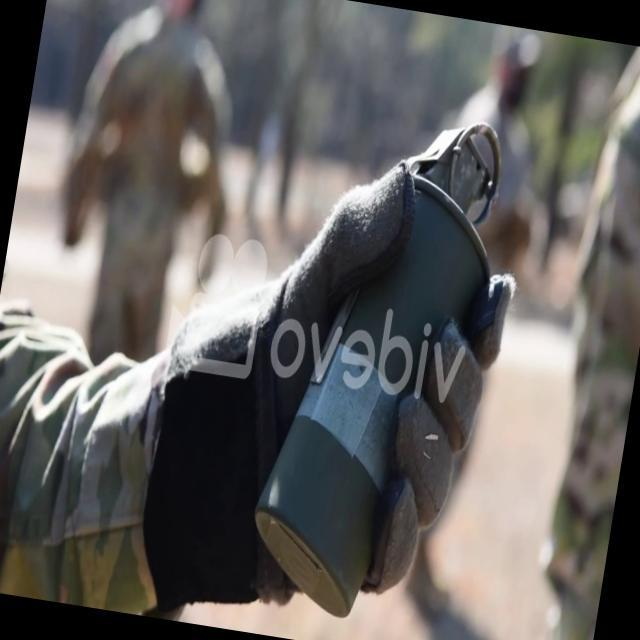grenade: (243, 94, 524, 636)
